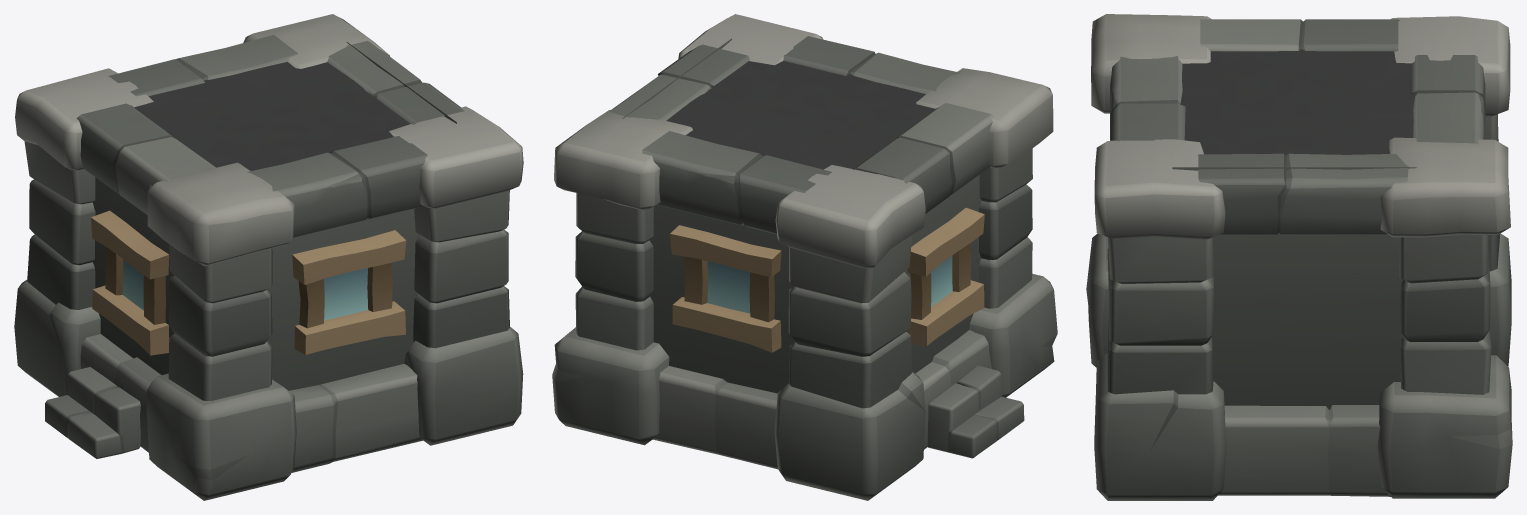
Rendered from mine_building_stone.fbx.
The picture shows the model from 3 angles, left to right: view 1: azimuth 30°, elevation 25°; view 2: azimuth 150°, elevation 25°; view 3: azimuth 270°, elevation 25°; orthographic projection. The views are drawn at different scales.
Visible parts, largest first — view 1: mine_building_stone; view 2: mine_building_stone; view 3: mine_building_stone.
Part boxes in pixels (x1=…): mine_building_stone: x1=14, y1=14, x2=523, y2=500; mine_building_stone: x1=552, y1=14, x2=1057, y2=500; mine_building_stone: x1=1086, y1=14, x2=1512, y2=500.
Size of the model in its own units: 406 by 308 by 370.
